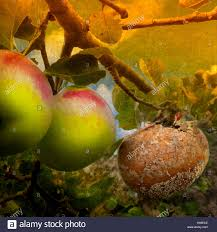apple: (44, 85, 116, 178), (1, 50, 50, 154)
damaged_apple: (120, 122, 209, 201)
